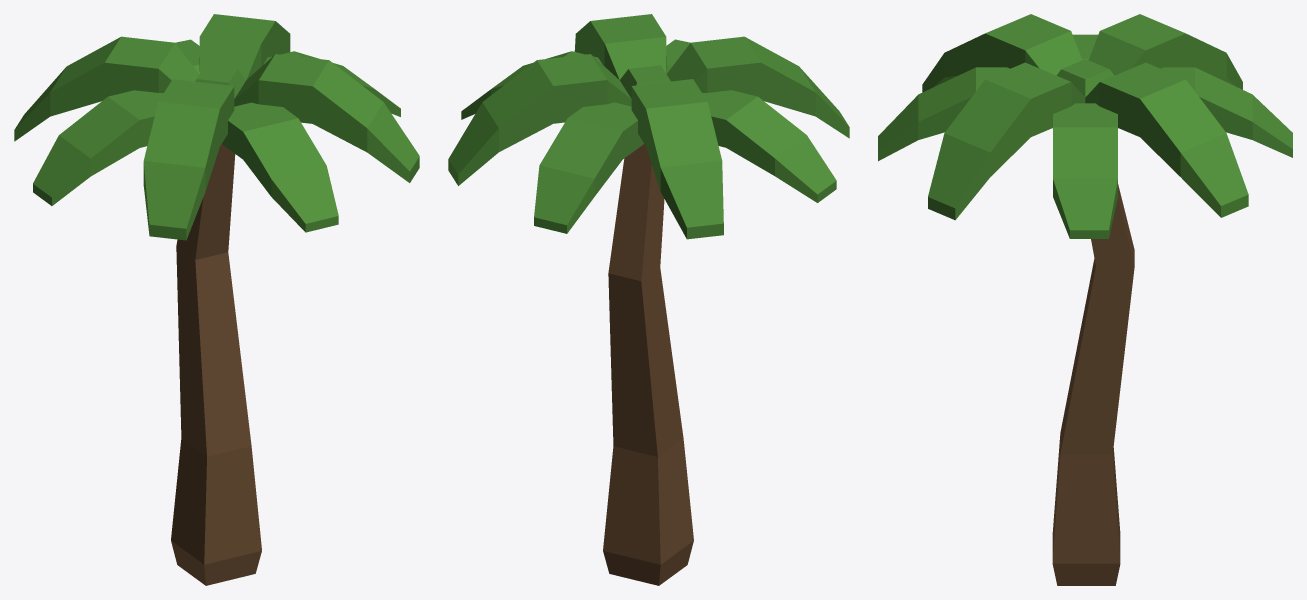
The model's file is palm.glb.
3 views of the same model, side by side, from view 1: azimuth 30°, elevation 25°; view 2: azimuth 150°, elevation 25°; view 3: azimuth 270°, elevation 25° (orthographic).
Parts seen in each view (by area): view 1: leafs (×2), tree_palmDetailedTall; view 2: leafs (×2), tree_palmDetailedTall; view 3: leafs (×2), tree_palmDetailedTall.
Part boxes in pixels (x1=…): leafs (×2): x1=14, y1=14, x2=419, y2=240; tree_palmDetailedTall: x1=171, y1=144, x2=261, y2=585; leafs (×2): x1=448, y1=14, x2=849, y2=239; tree_palmDetailedTall: x1=603, y1=144, x2=693, y2=585; leafs (×2): x1=878, y1=14, x2=1292, y2=238; tree_palmDetailedTall: x1=1052, y1=184, x2=1134, y2=585.
Bounding box in the file's own units: 1.03 × 1.42 × 1.03.
